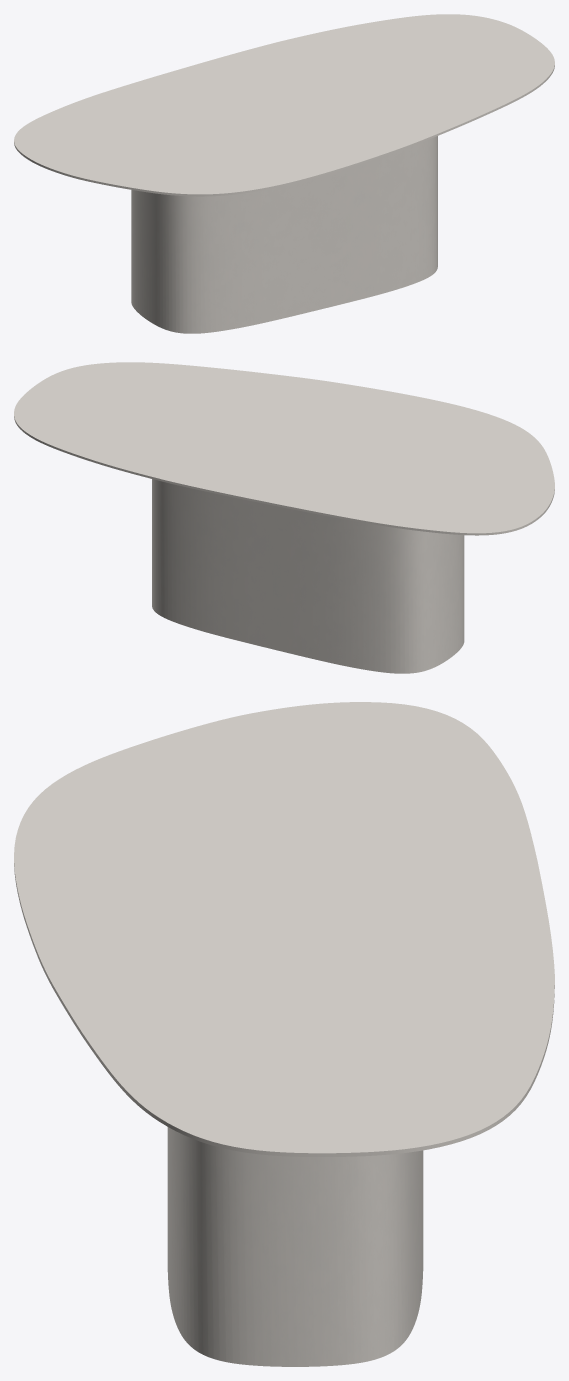
The model's file is purewhite_leaf2_facet_fixed.glb.
The picture shows the model from 3 angles, top to bottom: view 1: azimuth 30°, elevation 25°; view 2: azimuth 150°, elevation 25°; view 3: azimuth 270°, elevation 25°; orthographic projection. The views are drawn at different scales.
Visible parts, largest first — view 1: facet_leaf2, fixed; view 2: facet_leaf2, fixed; view 3: facet_leaf2, fixed.
Part boxes in pixels (bbox=[...]): facet_leaf2: bbox=[14, 14, 554, 196]; fixed: bbox=[131, 136, 437, 333]; facet_leaf2: bbox=[14, 362, 554, 535]; fixed: bbox=[152, 479, 464, 673]; facet_leaf2: bbox=[14, 702, 554, 1156]; fixed: bbox=[167, 1127, 423, 1366].
Size of the model in its own units: 7.5 by 2.5 by 3.8.
Materials: 1 (1 with a texture image).
